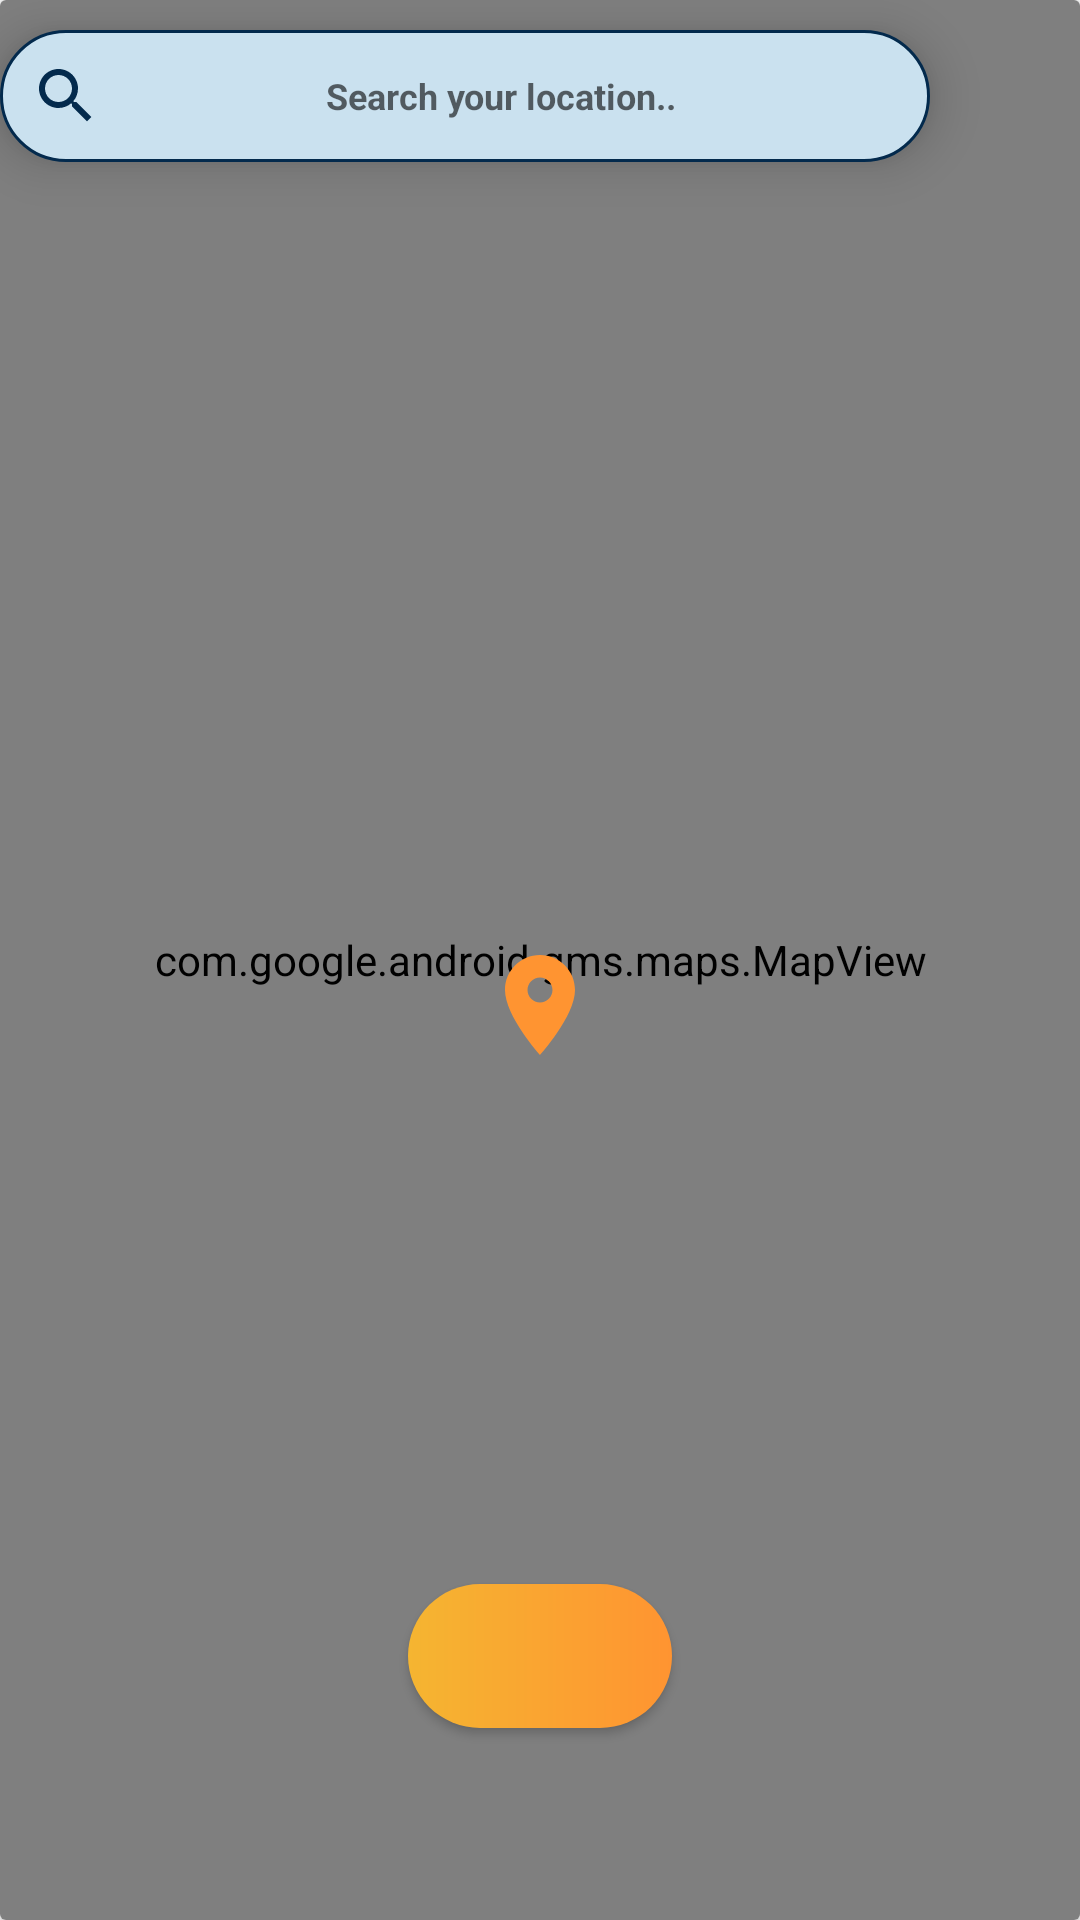

Locate icon controls on the screen. Image size 1080 x 1920, boxes as {"x1": x1, "y1": y1, "x2": x2, "y2": y2}.
map pin: {"x1": 499, "y1": 945, "x2": 599, "y2": 1055}
